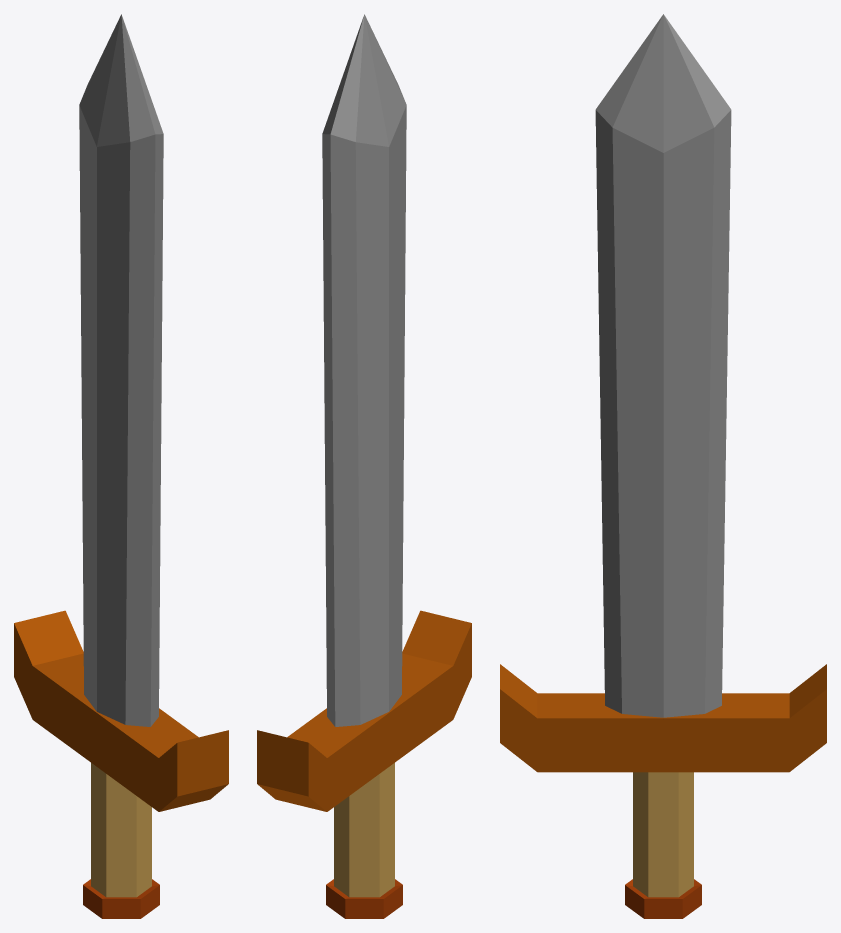
Rendered from Sword_3.fbx.
3 views of the same model, side by side, from view 1: azimuth 30°, elevation 25°; view 2: azimuth 150°, elevation 25°; view 3: azimuth 270°, elevation 25° (orthographic).
Visible parts, largest first — view 1: Cube.001; view 2: Cube.001; view 3: Cube.001.
Part boxes in pixels (x1,y1,x2,y2): Cube.001: (14,14,228,918); Cube.001: (257,14,471,918); Cube.001: (500,14,826,918).
Bounding box in the file's own units: 6.76 × 99.36 × 33.02.
